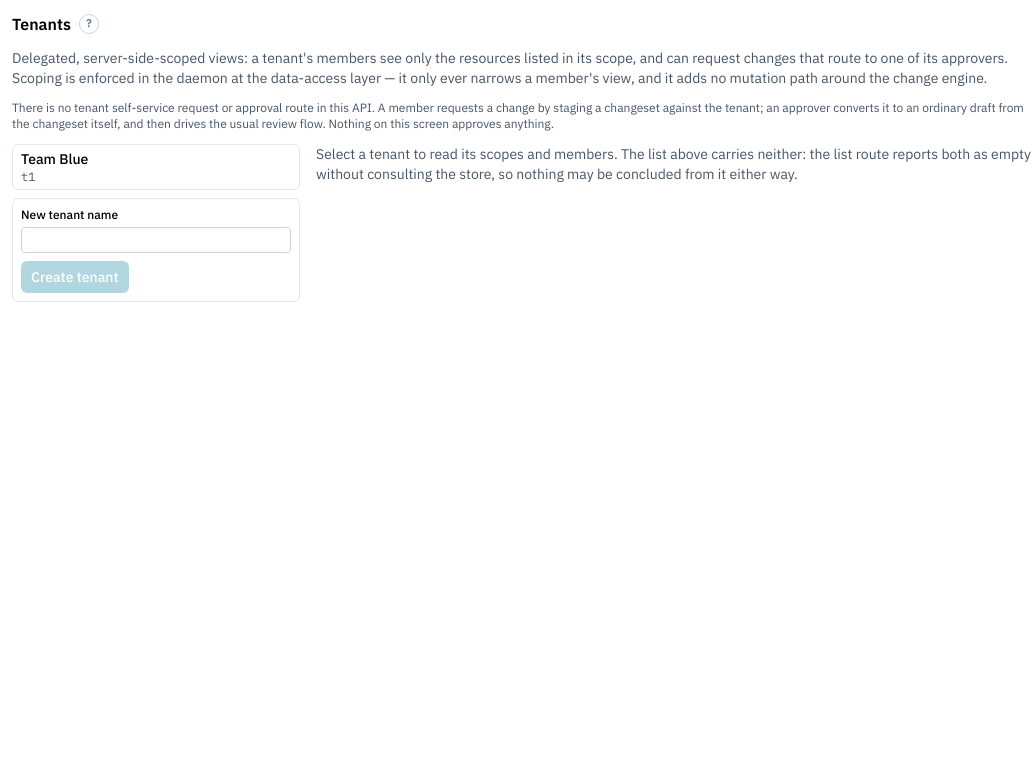
Test: TenantsPanel (T-3002 AC3) › says a genuinely empty scope leaves a tenant's members seeing nothing
The width and height of the screenshot is (1036, 780).
Click the button "Team Blue t1".
click(55, 159)  # box [12,144,300,190]
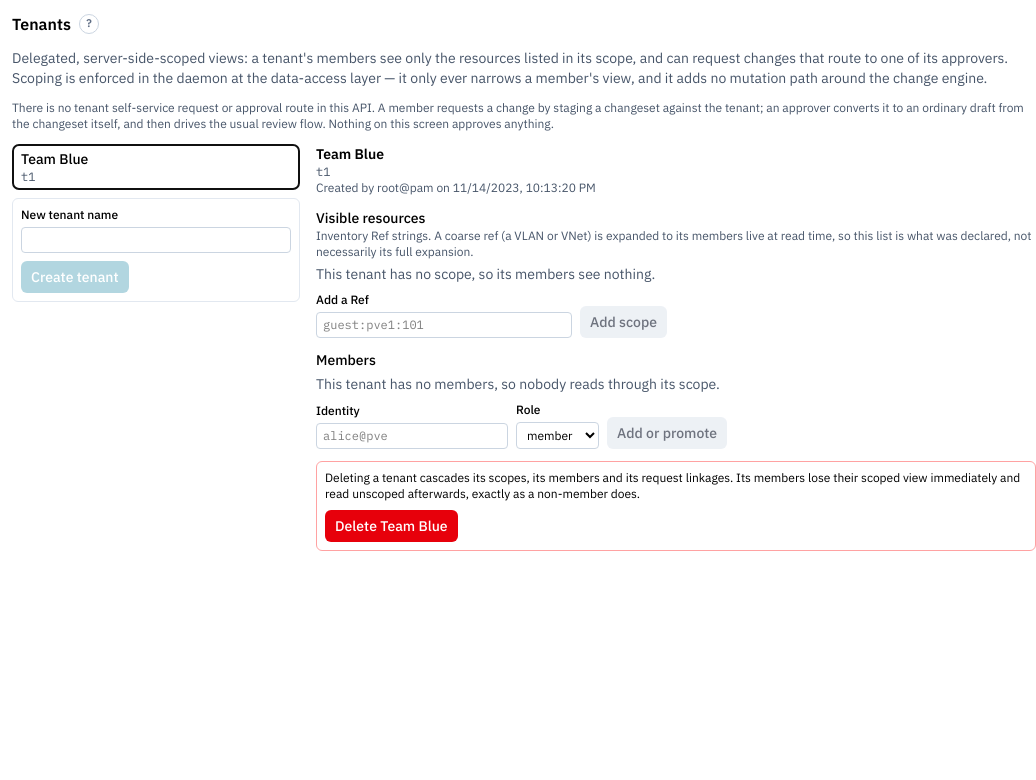
Now the text "This tenant has no scope, so its members see nothing." is shown, box [316,265,655,283]
Now the text "This tenant has no members" is shown, box [316,375,720,393]
